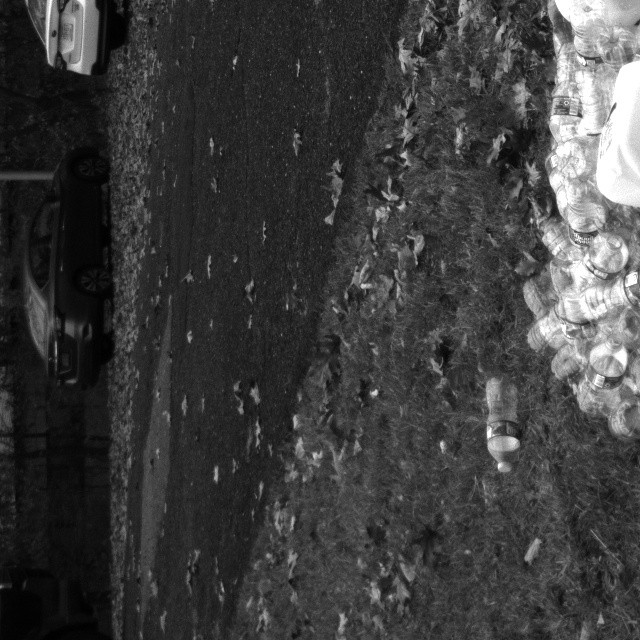bottle: (572, 337, 630, 421), (480, 373, 525, 476), (546, 41, 589, 148), (569, 230, 632, 297), (578, 263, 640, 324), (517, 273, 564, 349), (562, 168, 601, 259), (572, 70, 609, 156), (572, 0, 610, 73), (536, 213, 580, 273)
